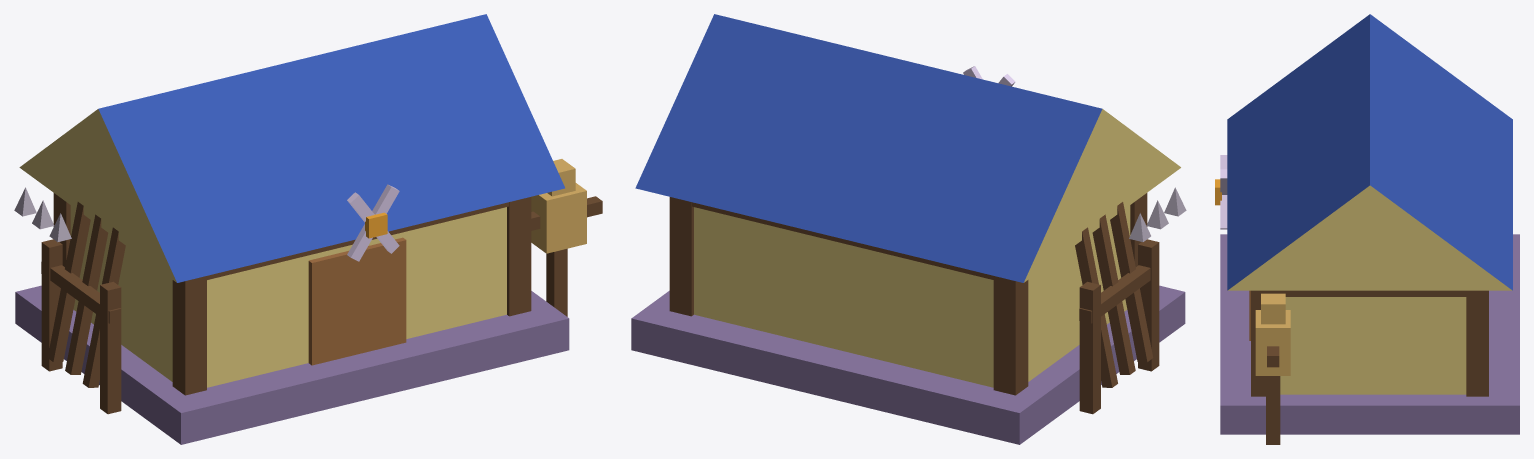
File: yard.glb
3 renders of one model, left to right at view 1: azimuth 30°, elevation 25°; view 2: azimuth 150°, elevation 25°; view 3: azimuth 270°, elevation 25°, orthographic. The views are drawn at different scales.
Parts seen in each view (by area): view 1: Model; view 2: Model; view 3: Model.
Boxes of the visible parts, <box> form: Model: <box>14,14,602,444</box>; Model: <box>631,14,1186,444</box>; Model: <box>1215,14,1519,444</box>.
Bounding box in the file's own units: 3.02 × 1.56 × 1.73.
